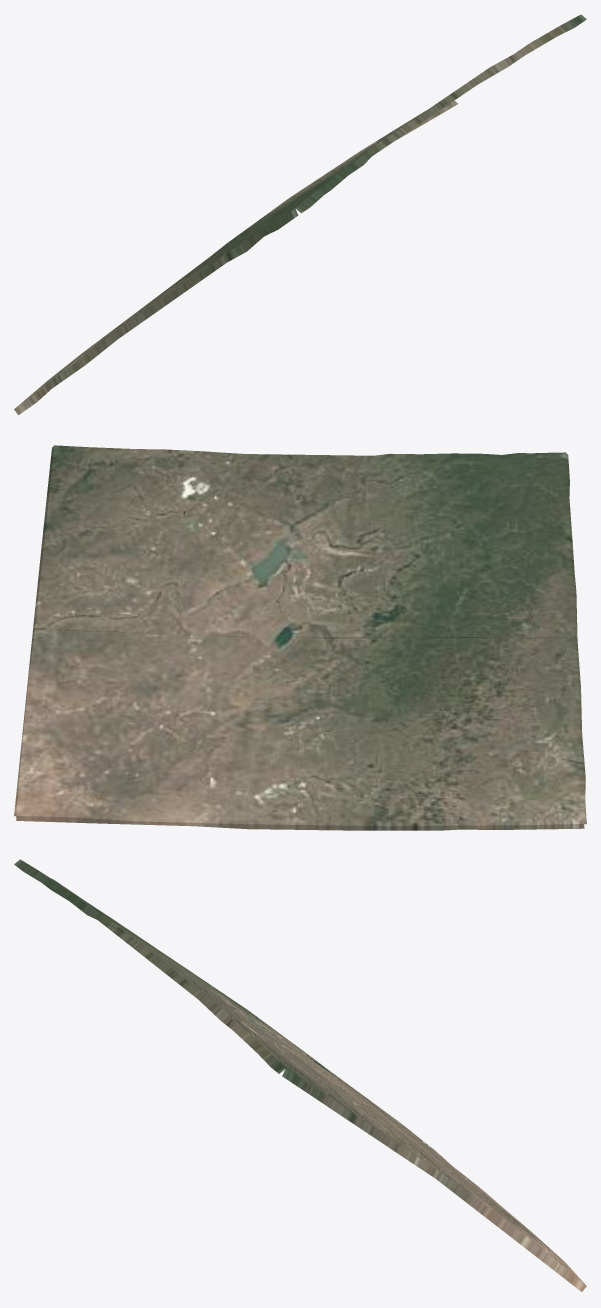
3 views of the same model, one above another, from view 1: azimuth 30°, elevation 25°; view 2: azimuth 150°, elevation 25°; view 3: azimuth 270°, elevation 25° (orthographic). The views are drawn at different scales.
Size of the model in its own units: 968110 by 435087 by 813781.
1 material, 1 textured.
